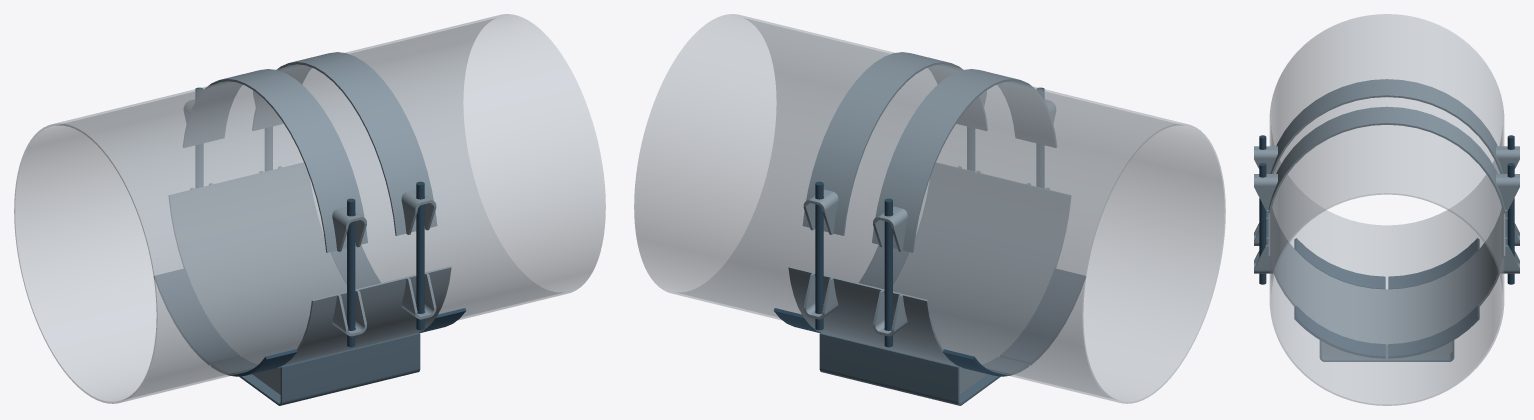
File: TS-671.00.00-24-opora-dn1220-H100.glb
3 renders of one model, left to right at view 1: azimuth 30°, elevation 25°; view 2: azimuth 150°, elevation 25°; view 3: azimuth 270°, elevation 25°, orthographic. The views are drawn at different scales.
Parts seen in each view (by area): view 1: truba, podushka_0, bugel_podushka_-1_0, bugel_podushka_1_0, skoba_1, upor_-1_1, shpilka_-1_-1, shpilka_1_-1, upor_-1_-1, upor_1_1, bugel_ushko_1_2, bugel_ushko_-1_2 (+2 smaller); view 2: truba, podushka_0, bugel_podushka_-1_0, bugel_podushka_1_0, skoba_1, upor_-1_-1, shpilka_-1_1, shpilka_1_1, upor_-1_1, upor_1_-1, bugel_ushko_1_1, bugel_ushko_-1_1 (+2 smaller); view 3: truba, podushka_0, bugel_podushka_1_0, bugel_podushka_-1_0, upor_1_1, upor_1_-1, upor_-1_1, upor_-1_-1, skoba_1, shpilka_1_1, shpilka_1_-1, bugel_ushko_1_1 (+6 smaller).
Boxes of the visible parts, <box> form: truba: <box>14,14,605,403</box>; podushka_0: <box>169,162,451,367</box>; bugel_podushka_-1_0: <box>183,69,367,252</box>; bugel_podushka_1_0: <box>252,52,437,235</box>; skoba_1: <box>239,333,420,405</box>; upor_-1_1: <box>154,268,239,365</box>; shpilka_-1_-1: <box>347,198,355,347</box>; shpilka_1_-1: <box>416,181,424,330</box>; upor_-1_-1: <box>211,349,296,376</box>; upor_1_1: <box>331,246,380,288</box>; bugel_ushko_1_2: <box>401,189,436,234</box>; bugel_ushko_-1_2: <box>332,206,366,251</box>; truba: <box>634,14,1225,403</box>; podushka_0: <box>788,162,1070,367</box>; bugel_podushka_-1_0: <box>872,69,1056,252</box>; bugel_podushka_1_0: <box>802,52,987,235</box>; skoba_1: <box>819,333,1000,405</box>; upor_-1_-1: <box>1000,268,1085,365</box>; shpilka_-1_1: <box>884,198,892,347</box>; shpilka_1_1: <box>815,181,823,330</box>; upor_-1_1: <box>943,349,1028,376</box>; upor_1_-1: <box>859,246,908,288</box>; bugel_ushko_1_1: <box>803,189,838,234</box>; bugel_ushko_-1_1: <box>873,206,907,251</box>; truba: <box>1269,14,1504,405</box>; podushka_0: <box>1268,209,1505,346</box>; bugel_podushka_1_0: <box>1268,106,1505,213</box>; bugel_podushka_-1_0: <box>1270,79,1503,173</box>; upor_1_1: <box>1388,306,1479,358</box>; upor_1_-1: <box>1294,306,1385,358</box>; upor_-1_1: <box>1388,238,1479,289</box>; upor_-1_-1: <box>1294,238,1385,289</box>; skoba_1: <box>1319,340,1454,361</box>; shpilka_1_1: <box>1507,163,1514,284</box>; shpilka_1_-1: <box>1259,163,1266,284</box>; bugel_ushko_1_1: <box>1496,174,1519,209</box>.
Size of the model in its own units: 2200 by 1337 by 1380.
